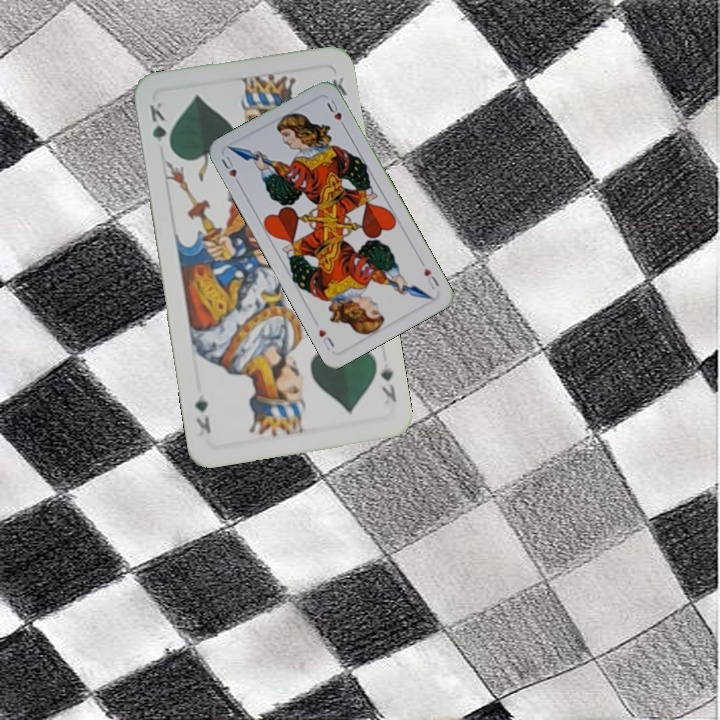GK: (145, 98, 174, 154), (376, 364, 399, 404)
HU: (217, 152, 244, 189), (420, 264, 442, 292)
